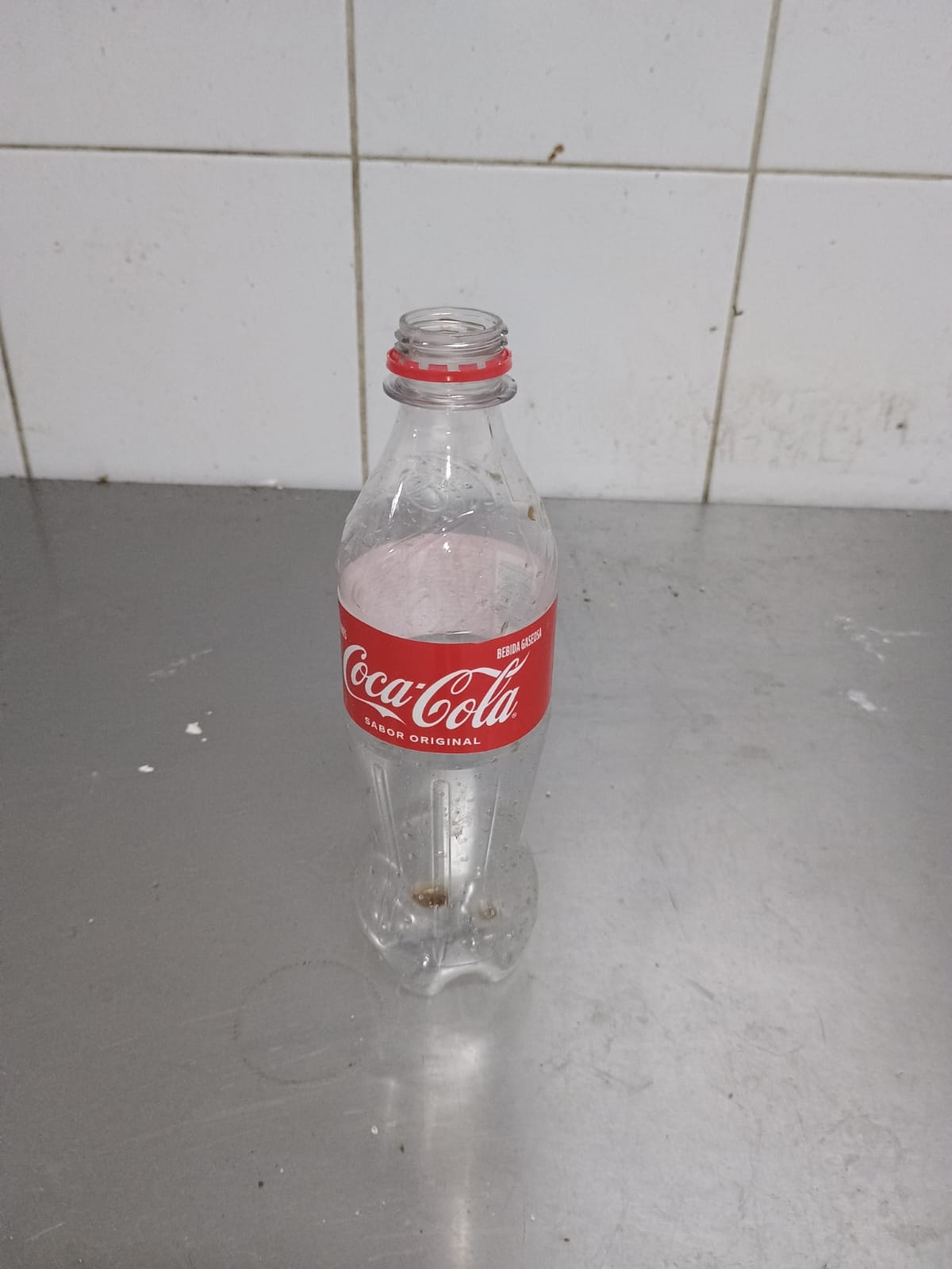Plastico: (335, 311, 556, 995)
